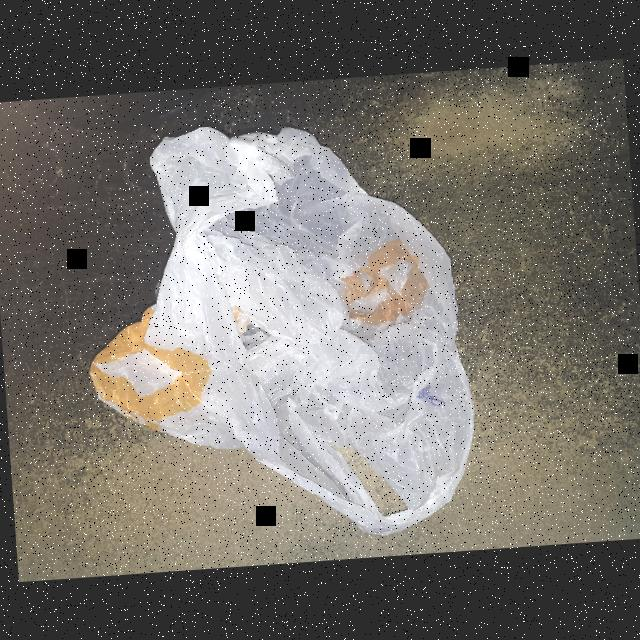plastic_bag: (68, 90, 520, 560)
